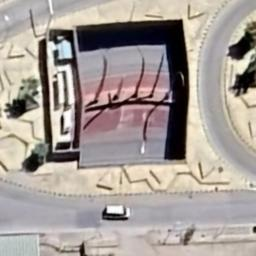van: (100, 203, 132, 222)
